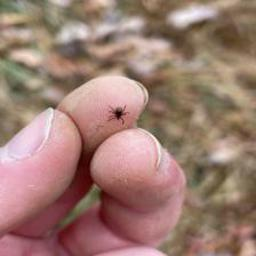Ixodes scapularis: (107, 103, 128, 125)
